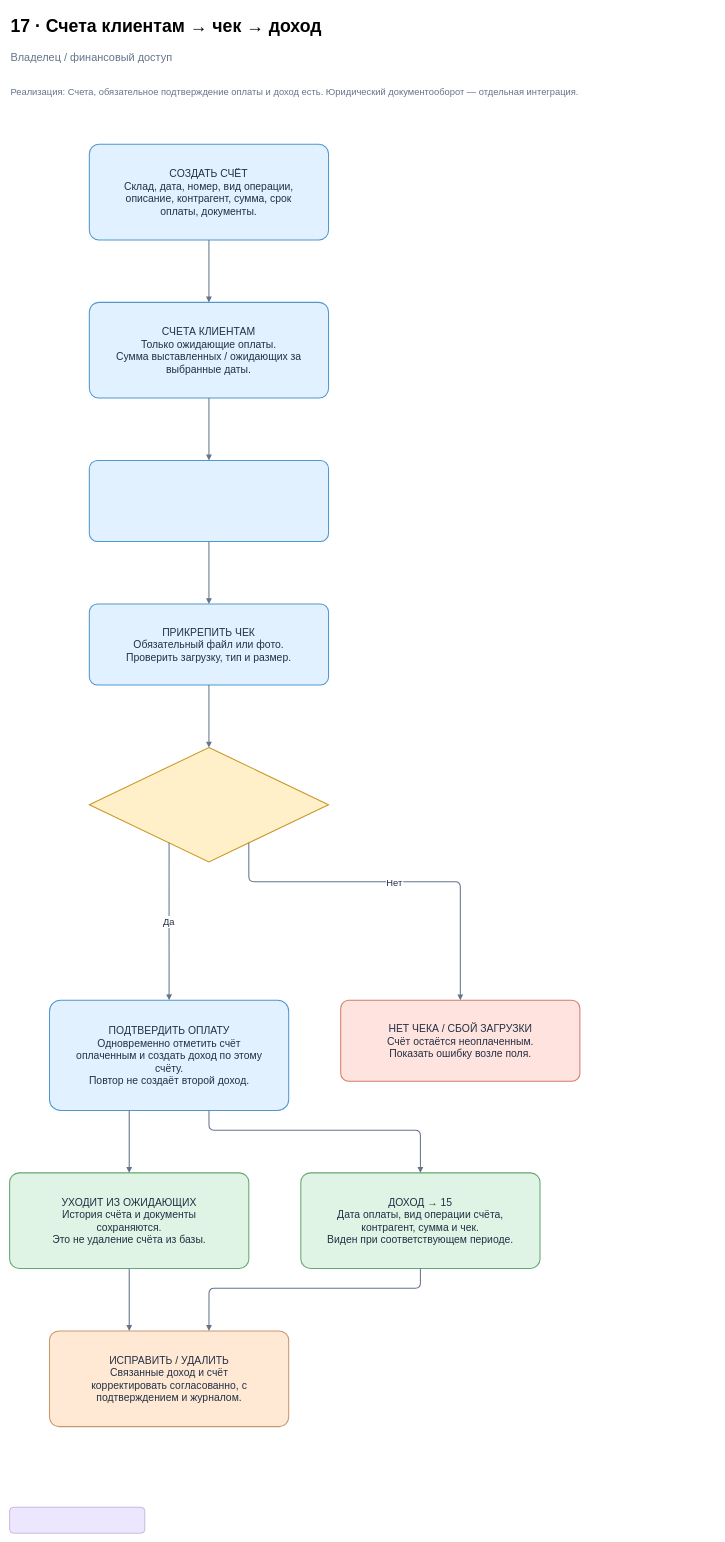
Image size: 725x1542. Some labels were removed from this diagram. The shapes that lost their labels are listed below. From the top down, each one's box as (x1, y1, x2, y2) in pixels, then its label:
(89, 460, 329, 542): ОТМЕТИТЬ ОПЛАТУ Открывается окно подтверждения с данными счёта.
(89, 747, 329, 862): Чек загружен и данные корректны?
(9, 1507, 145, 1533): ← К оглавлению
